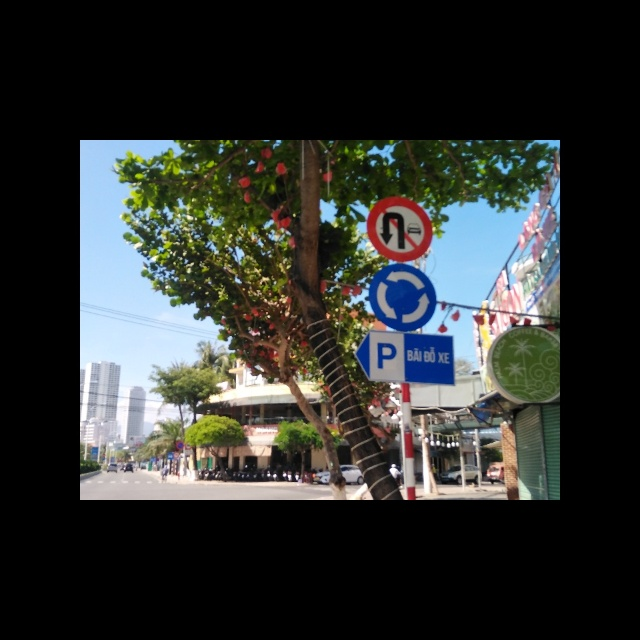Cấm xe ô tô quay đầu: (367, 197, 432, 263)
Nơi giao nhau chạy theo vòng xuyến: (370, 262, 437, 332)
Nơi đỗ xe: (354, 332, 456, 386)
